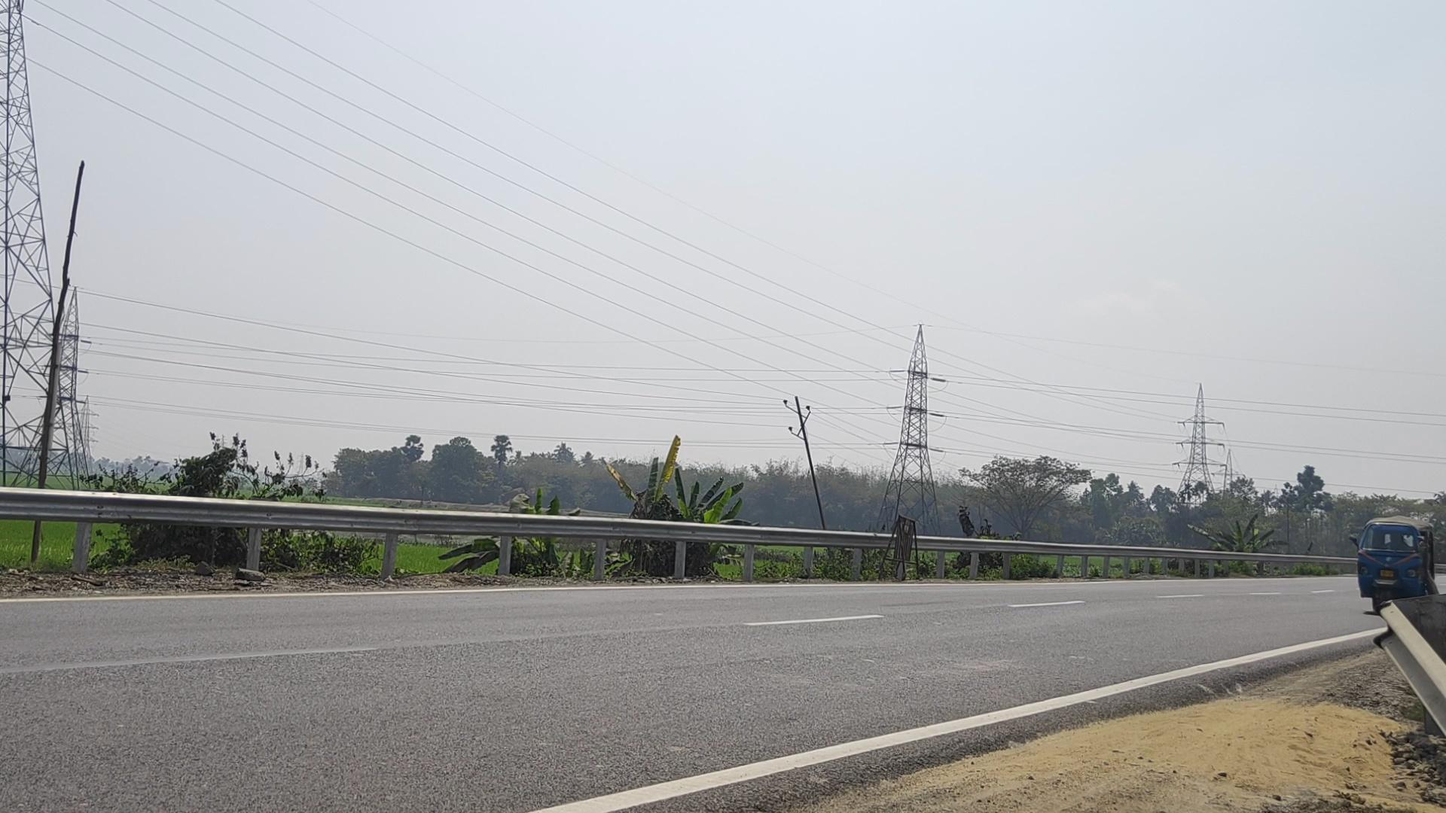Auto: (1349, 515, 1436, 613)
